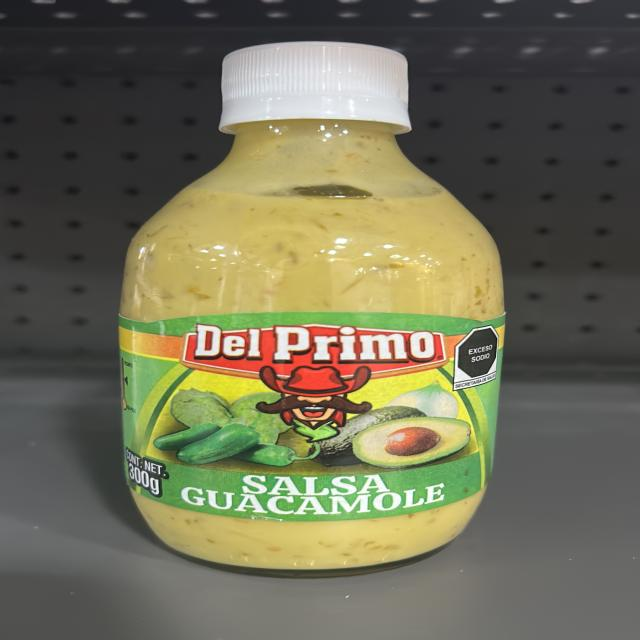delPrimoSalsa: (108, 52, 510, 565)
